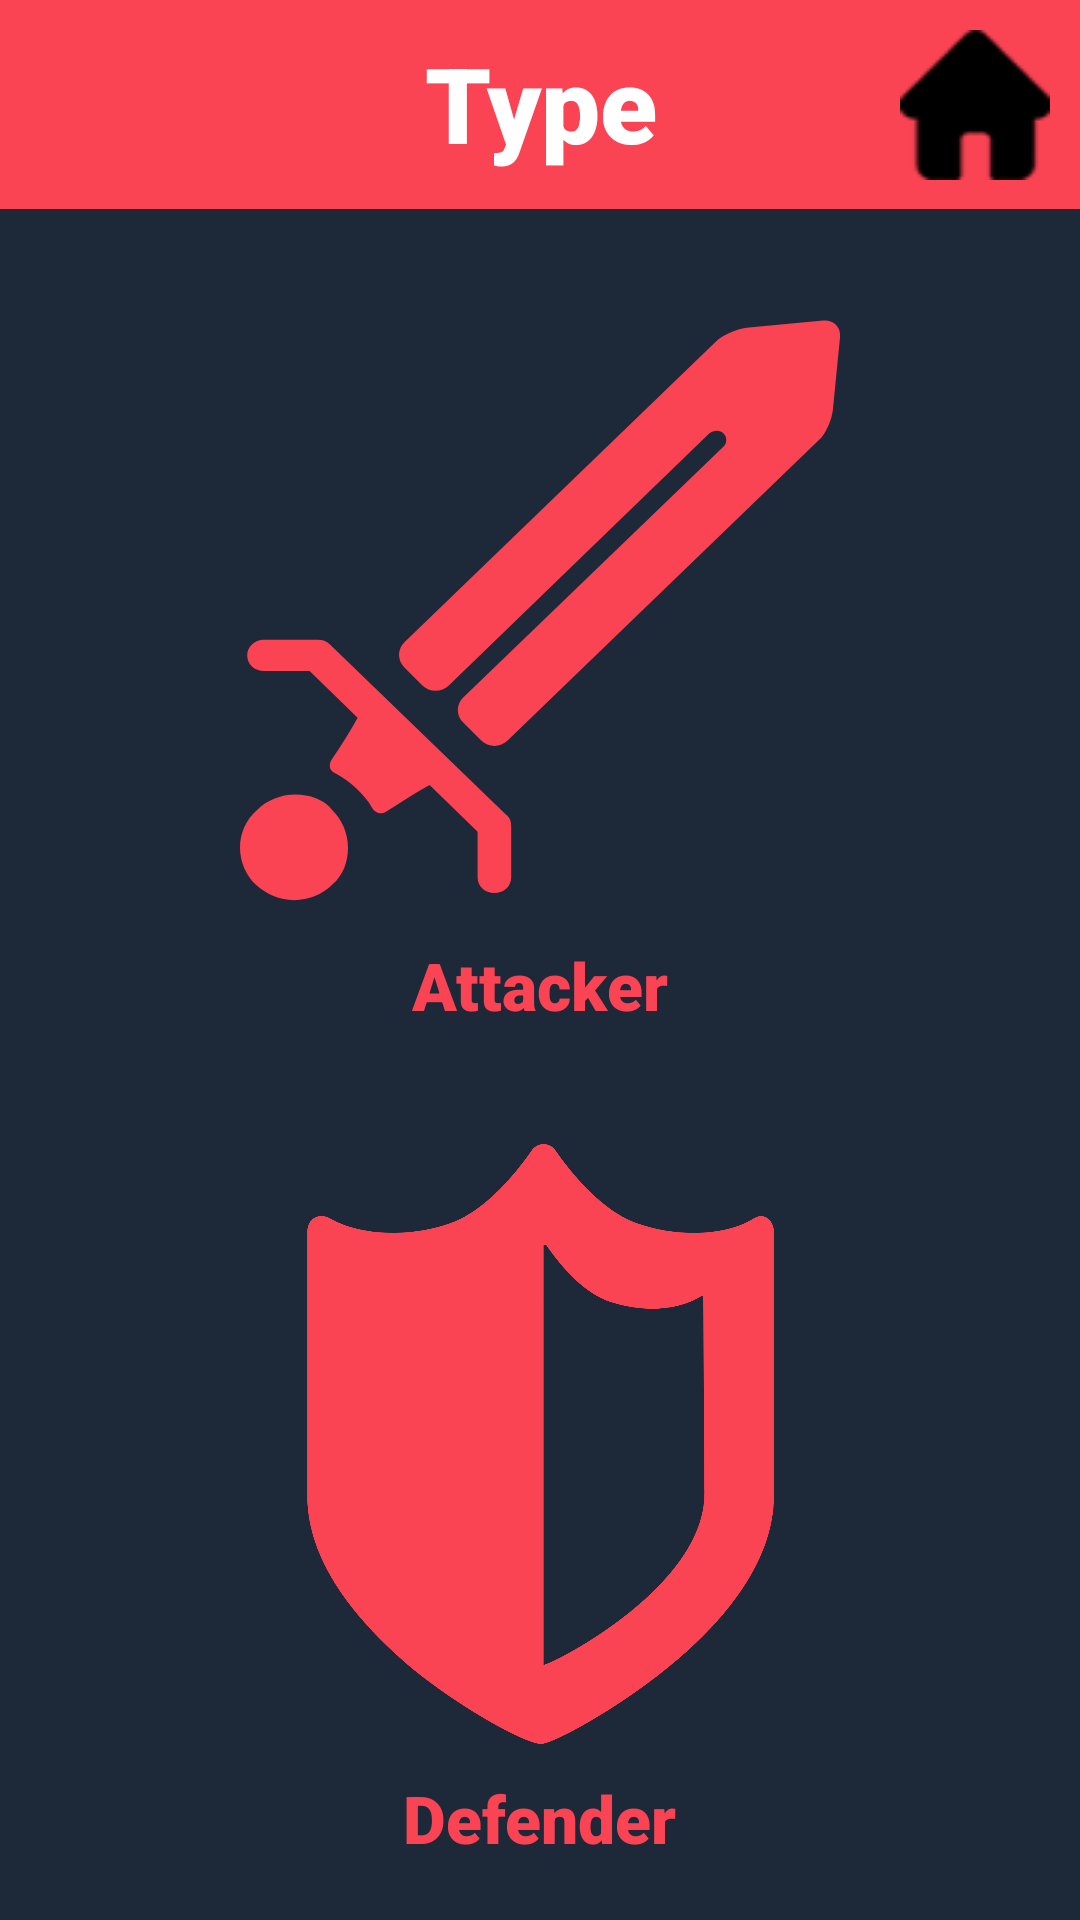

Icons on this 1080w x 1920h Android screen, each with the point to tap as (x=x, y=y):
home: (x=975, y=105)
